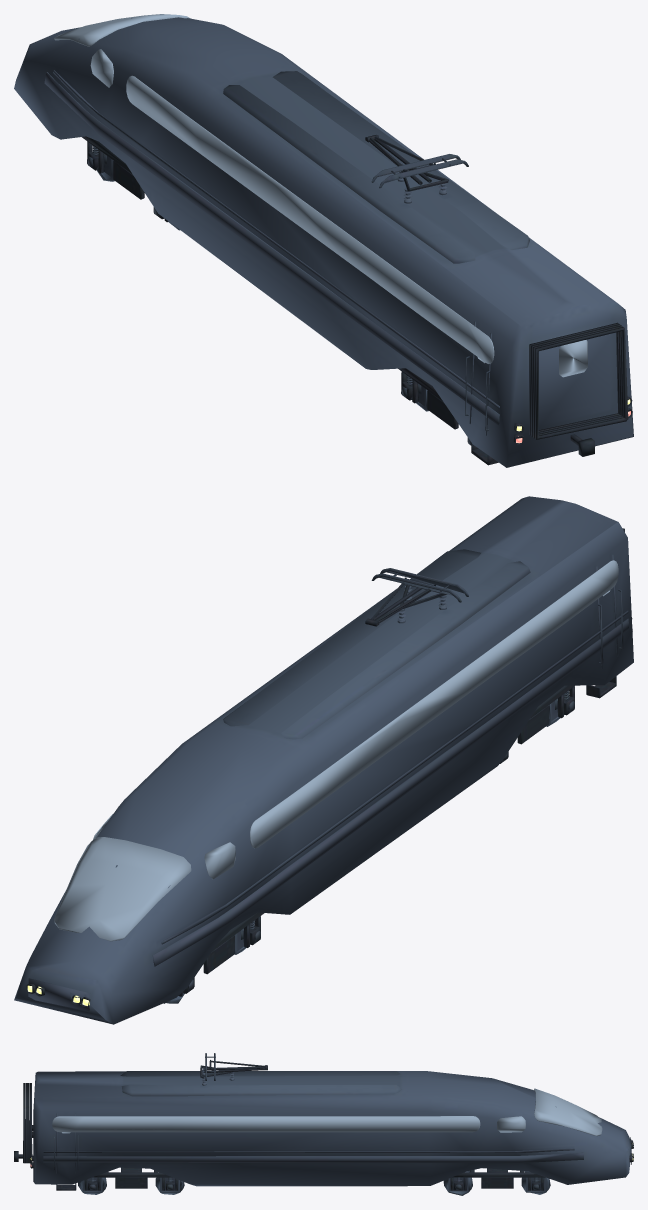
The model's file is high-speed.glb.
3 renders of one model, top to bottom at view 1: azimuth 30°, elevation 25°; view 2: azimuth 150°, elevation 25°; view 3: azimuth 270°, elevation 25°, orthographic. The views are drawn at different scales.
Parts seen in each view (by area): view 1: high-speed-train_body, high-speed-train_window_glass; view 2: high-speed-train_body, high-speed-train_window_glass; view 3: high-speed-train_body, high-speed-train_window_glass.
Part boxes in pixels (x1,y1,x2,y2): high-speed-train_body: [14, 17, 633, 467]; high-speed-train_window_glass: [54, 14, 587, 377]; high-speed-train_body: [14, 496, 633, 1024]; high-speed-train_window_glass: [54, 560, 618, 941]; high-speed-train_body: [14, 1053, 633, 1195]; high-speed-train_window_glass: [52, 1088, 602, 1136].
Size of the model in its own units: 3 by 4.38 by 19.99.
Materials: 4 (1 with a texture image).
